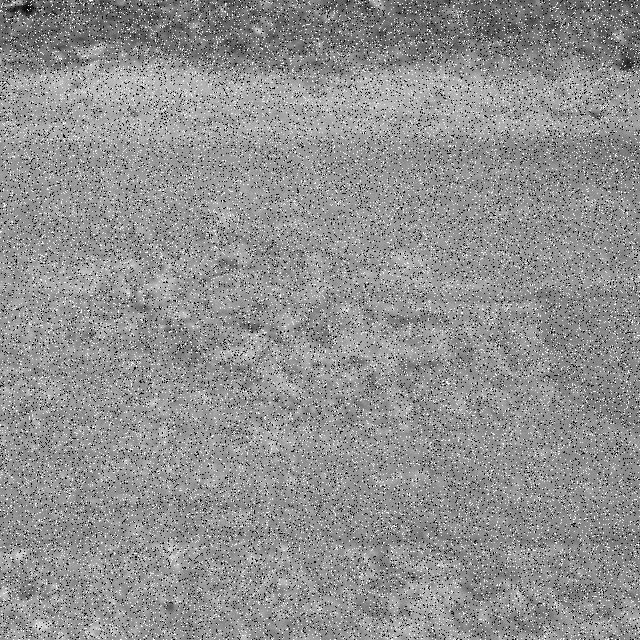pothole: (140, 240, 439, 397)
